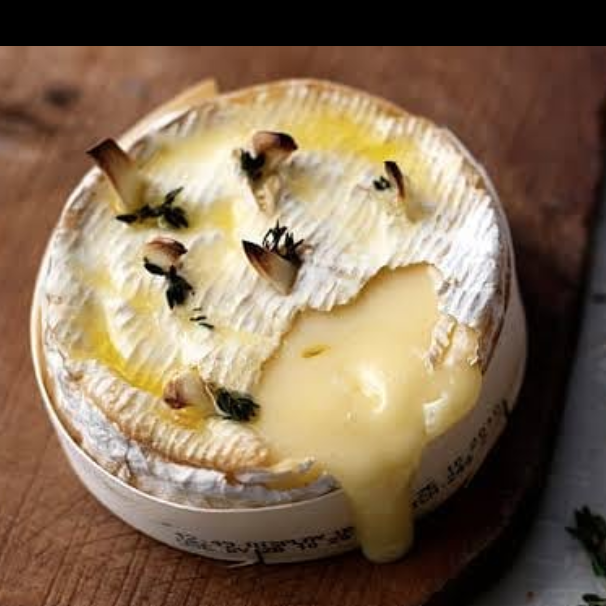camembert: (33, 79, 513, 558)
